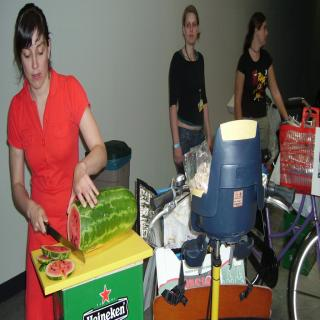Watermelon: (67, 186, 137, 253), (42, 244, 70, 258), (58, 256, 75, 277), (46, 260, 61, 280), (37, 253, 49, 264)
